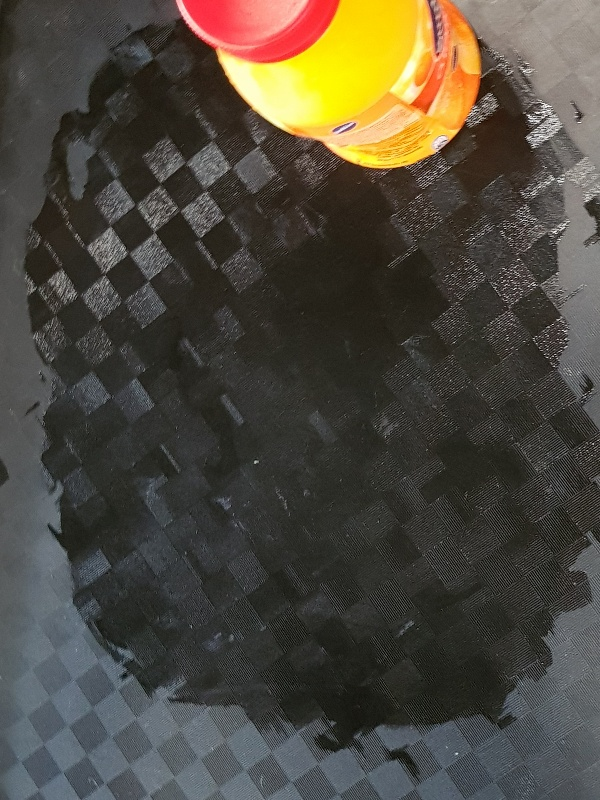Sunkist Orange Juice Drink: (175, 1, 483, 170)
